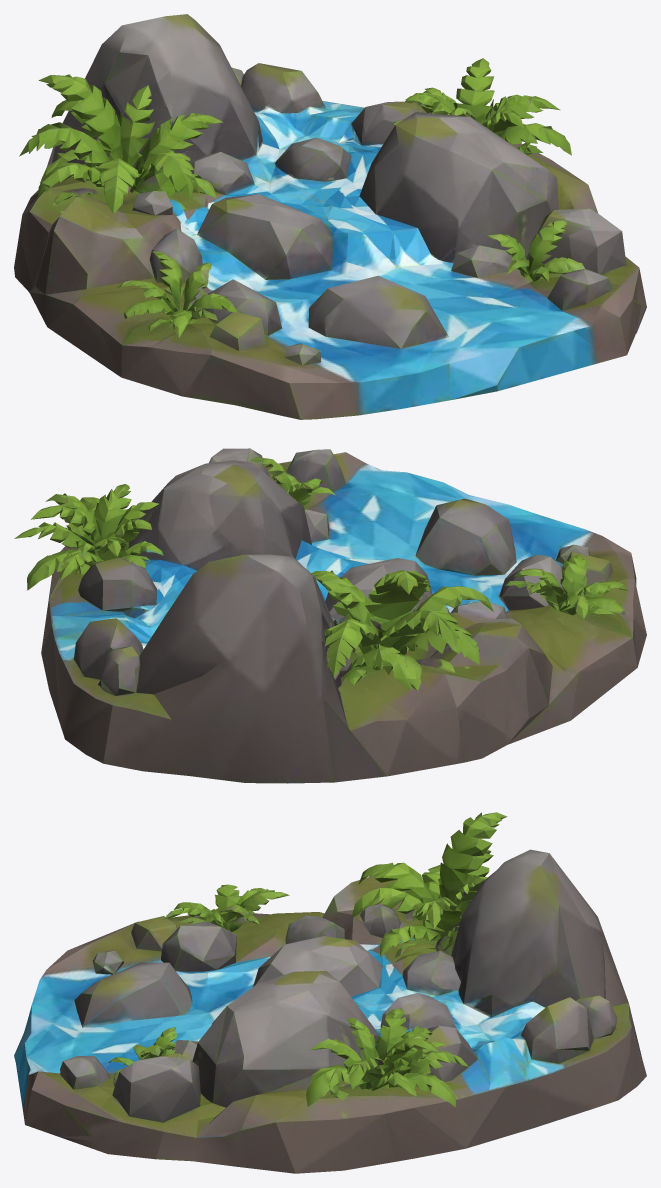
Rendered from valleyRocks.glb.
3 views of the same model, one above another, from view 1: azimuth 30°, elevation 25°; view 2: azimuth 150°, elevation 25°; view 3: azimuth 270°, elevation 25° (orthographic). The views are drawn at different scales.
Size of the model in its own units: 1.68 by 0.5713 by 1.9.
1 material, 1 textured.
